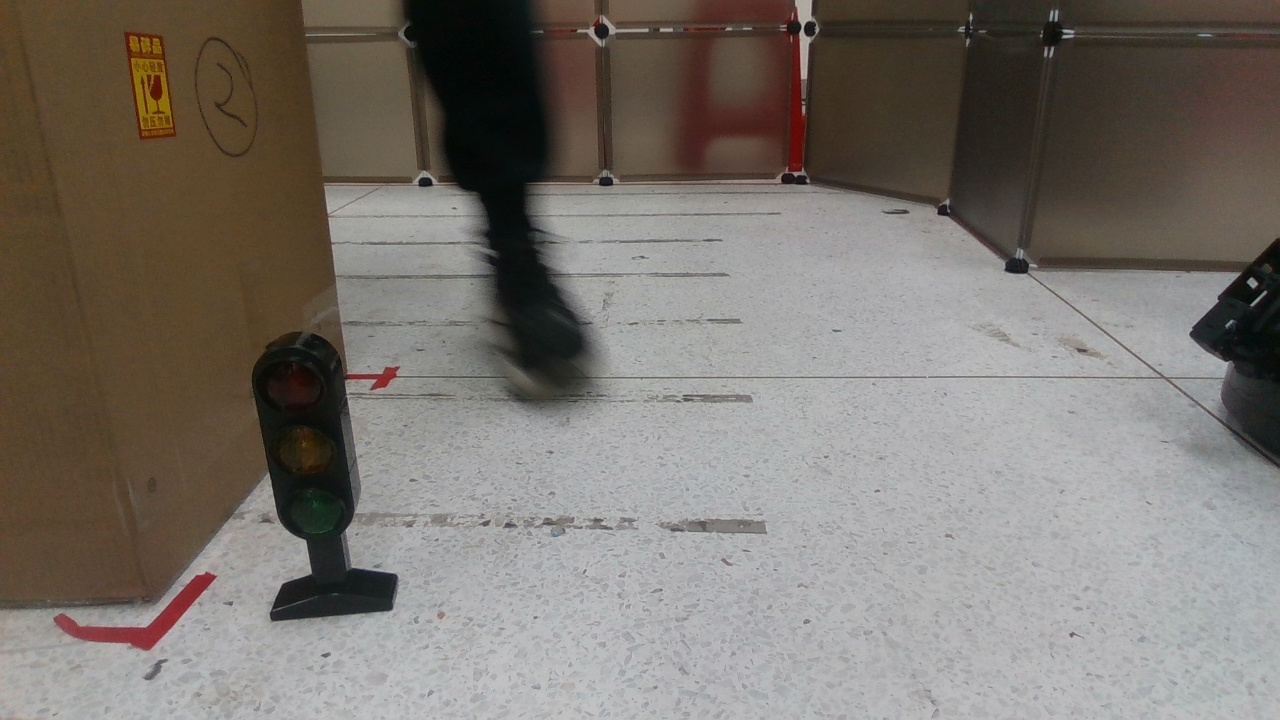Dim traffic light: (249, 333, 404, 620)
